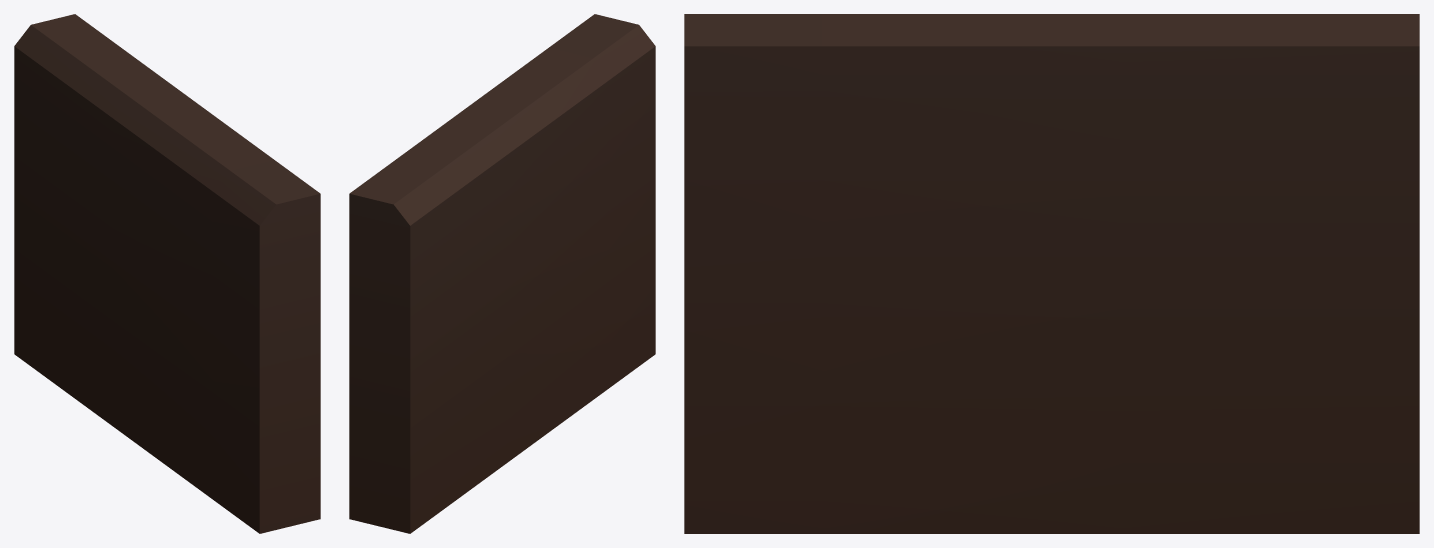
File: SM_Brown_Baseboard.fbx
The picture shows the model from 3 angles, left to right: view 1: azimuth 30°, elevation 25°; view 2: azimuth 150°, elevation 25°; view 3: azimuth 270°, elevation 25°; orthographic projection. The views are drawn at different scales.
Visible parts, largest first — view 1: SM_Brown_Baseboard; view 2: SM_Brown_Baseboard; view 3: SM_Brown_Baseboard.
Boxes of the visible parts, x1,y1,x2,y2 form: SM_Brown_Baseboard: (14,14,320,533); SM_Brown_Baseboard: (349,14,655,533); SM_Brown_Baseboard: (684,14,1419,533).
Bounding box in the file's own units: 0.2864 × 2 × 1.46.
